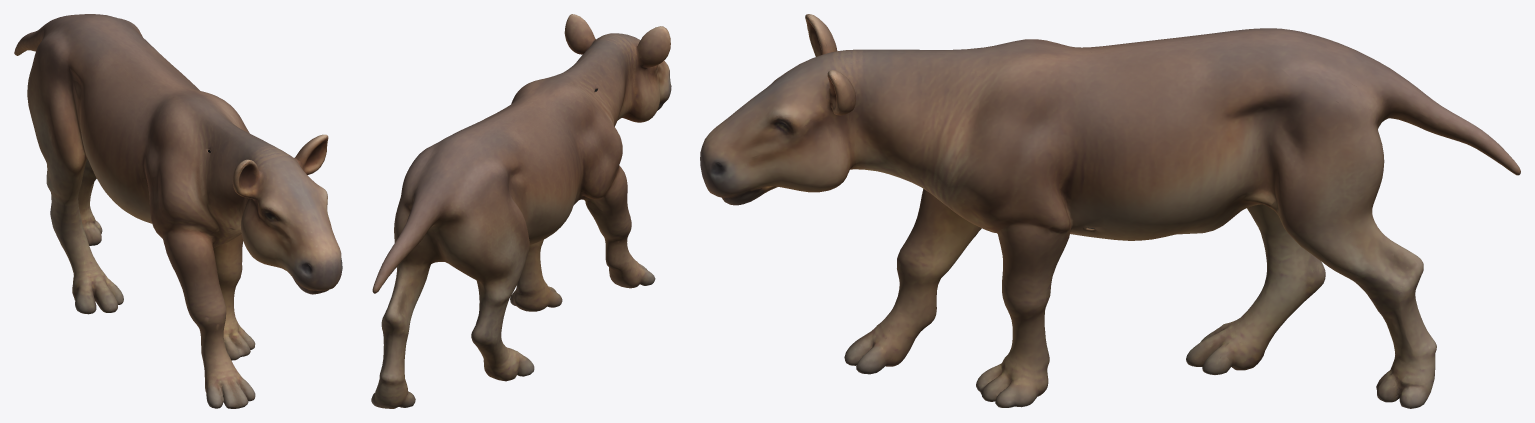
3 views of the same model, side by side, from view 1: azimuth 30°, elevation 25°; view 2: azimuth 150°, elevation 25°; view 3: azimuth 270°, elevation 25° (orthographic). The views are drawn at different scales.
Parts seen in each view (by area): view 1: world; view 2: world; view 3: world.
Boxes of the visible parts, bbox=[...] form: world: bbox=[14, 14, 342, 408]; world: bbox=[371, 14, 671, 408]; world: bbox=[700, 14, 1520, 408].
Size of the model in its own units: 0.3456 by 0.7606 by 1.64.
1 material, 1 textured.
